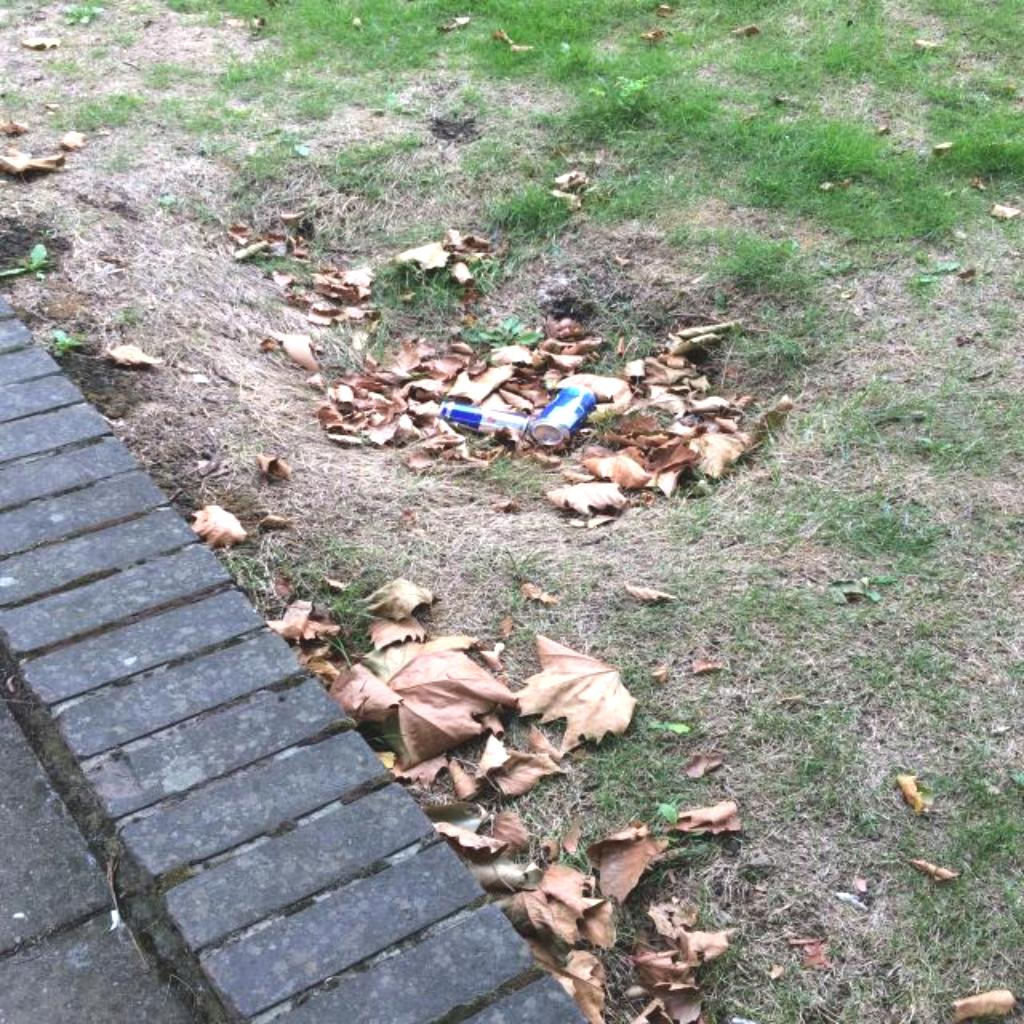garbage: (442, 388, 531, 450), (529, 386, 604, 445)
